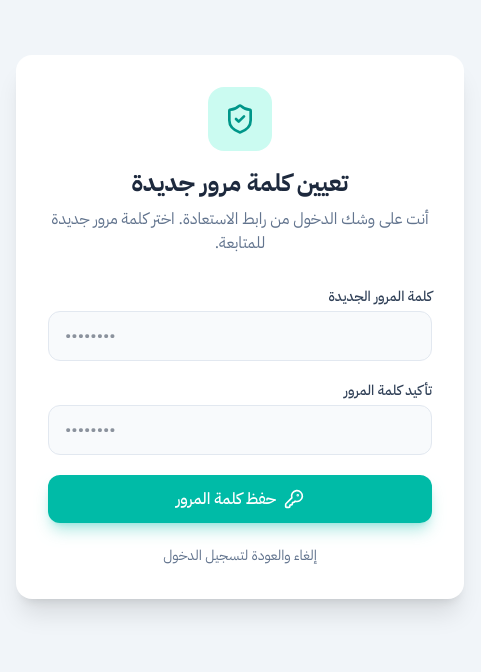
Test: UpdatePasswordView › refuses a password that is too short, before any round trip
This screenshot has width=481, height=672.
Type "abc" into the password field labelled "كلمة المرور الجديدة" at point(240, 336), box 48,311 -> 432,361
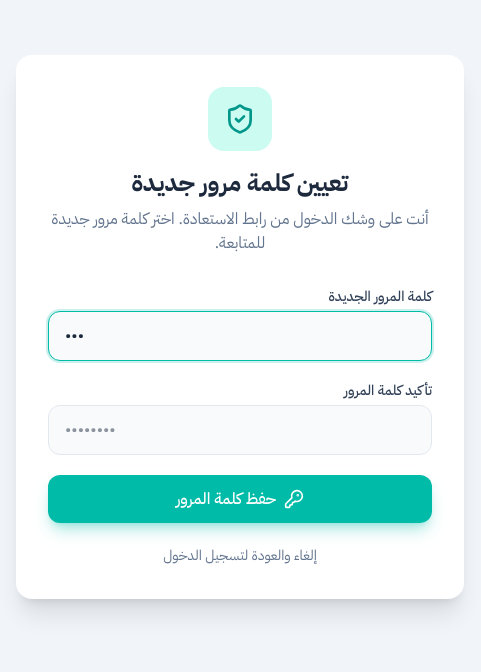
Type "abc" into the password field labelled "تأكيد كلمة المرور" at point(240, 430), box 48,405 -> 432,455
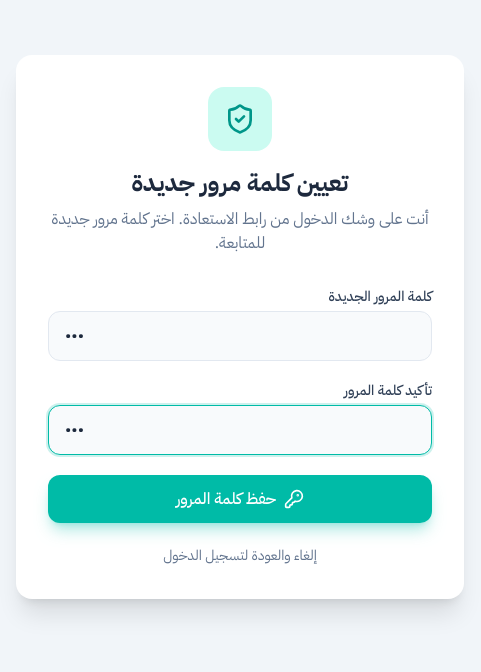
Click the button "حفظ كلمة المرور" at point(240, 499), box 48,475 -> 432,523
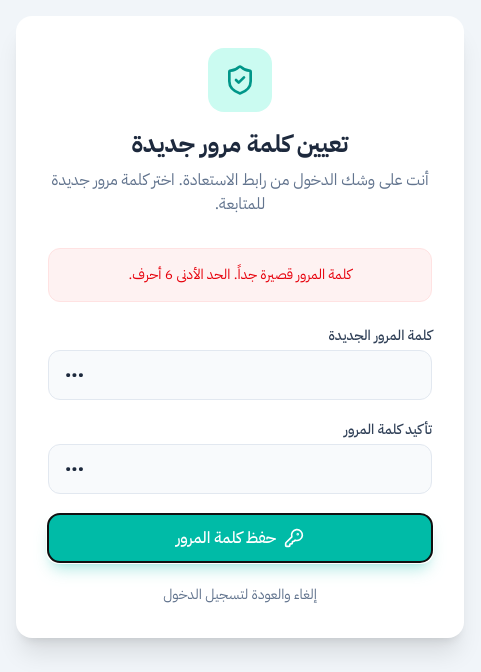
Now the message shows "قصيرة", box 128,264 -> 352,285
